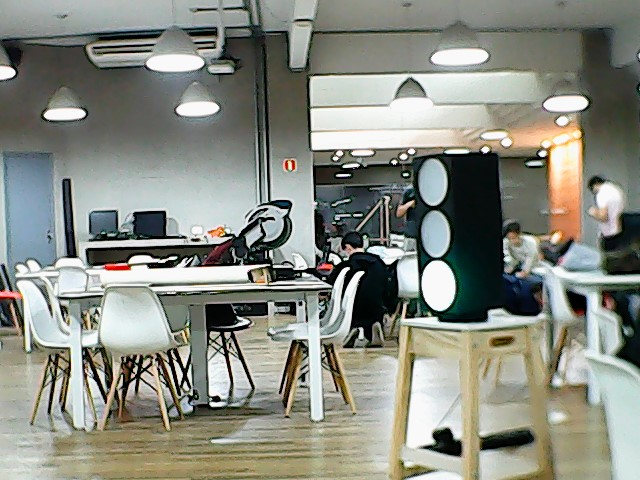verde: (405, 148, 509, 312)
